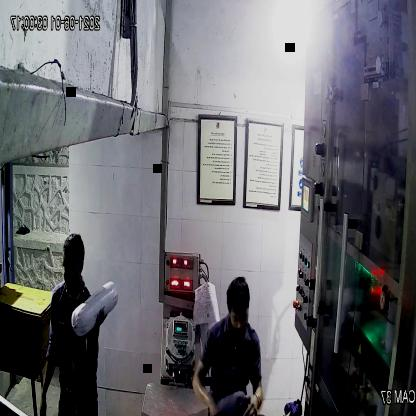no_goggles: (225, 308, 254, 332)
